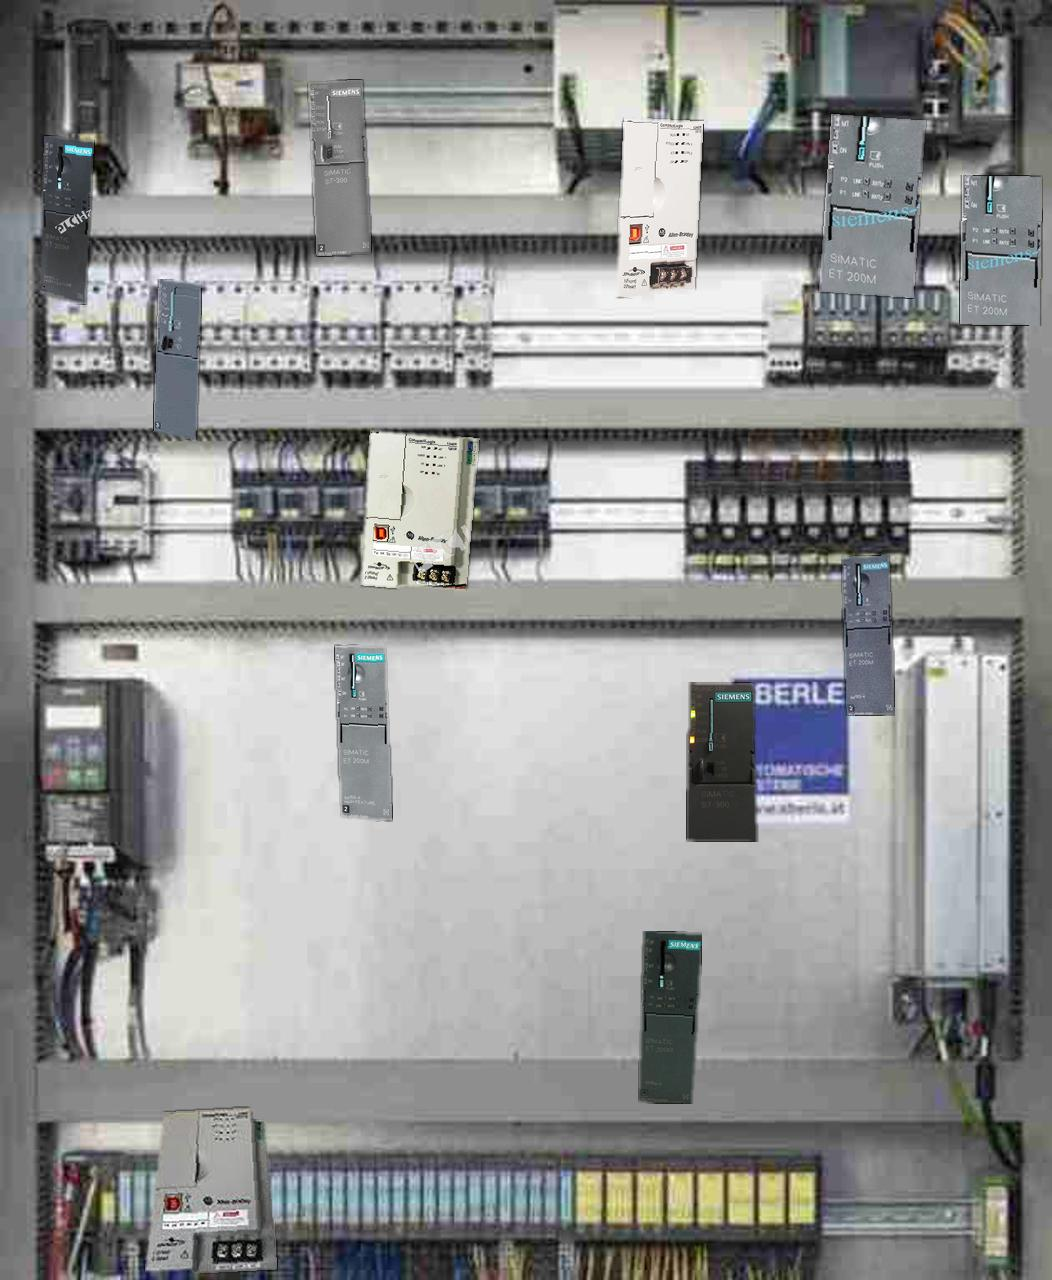AllenBradley: (145, 1108, 276, 1271), (361, 431, 478, 588), (617, 119, 703, 296)
Siemens: (688, 683, 756, 841), (309, 80, 370, 255), (153, 279, 201, 439)
